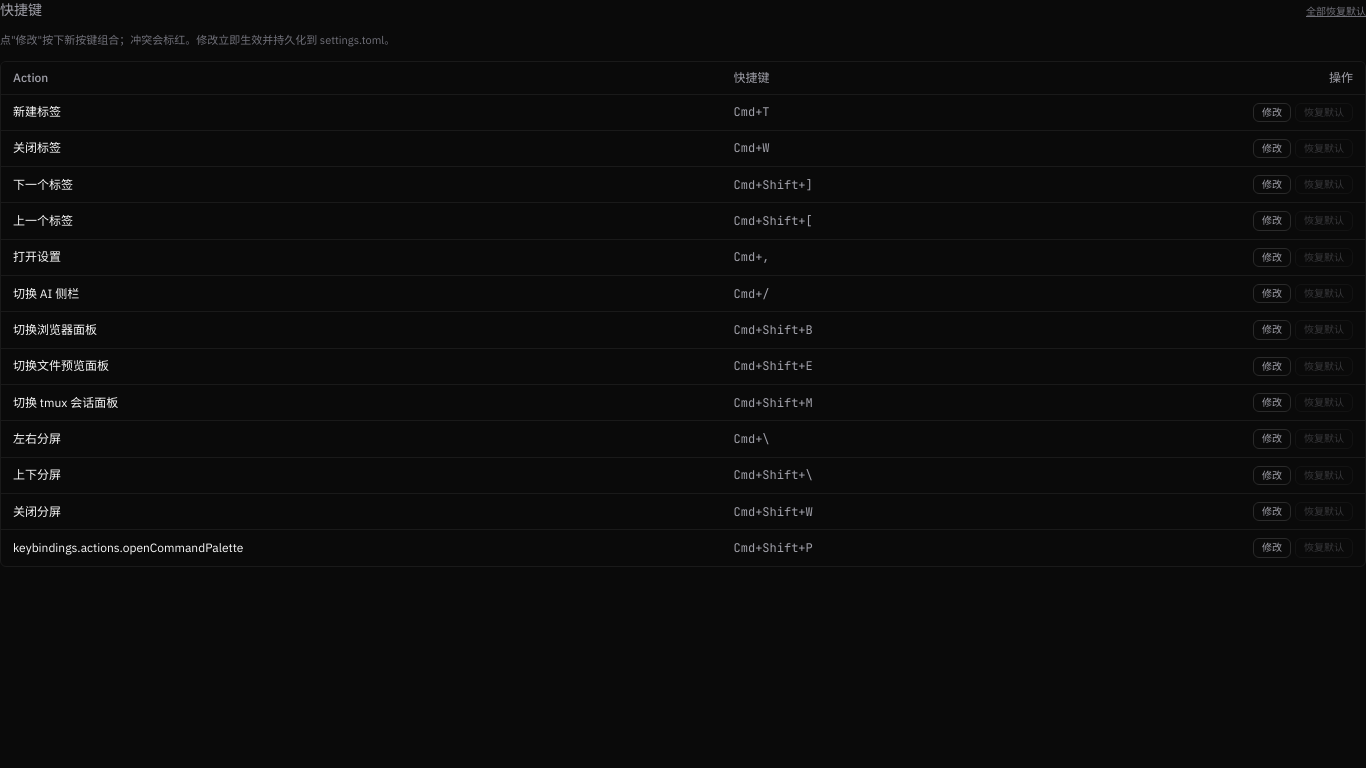
Test case: KeybindingsSection › capture dialog 仅 modifier 键按下不更新预览（要求至少一个非修饰键）
What coordinates should you click on to do the following:
click the button with test id "keybinding-edit-newTab"
I would click on:
 (1272, 112)
Its box is [1253, 102, 1291, 122].
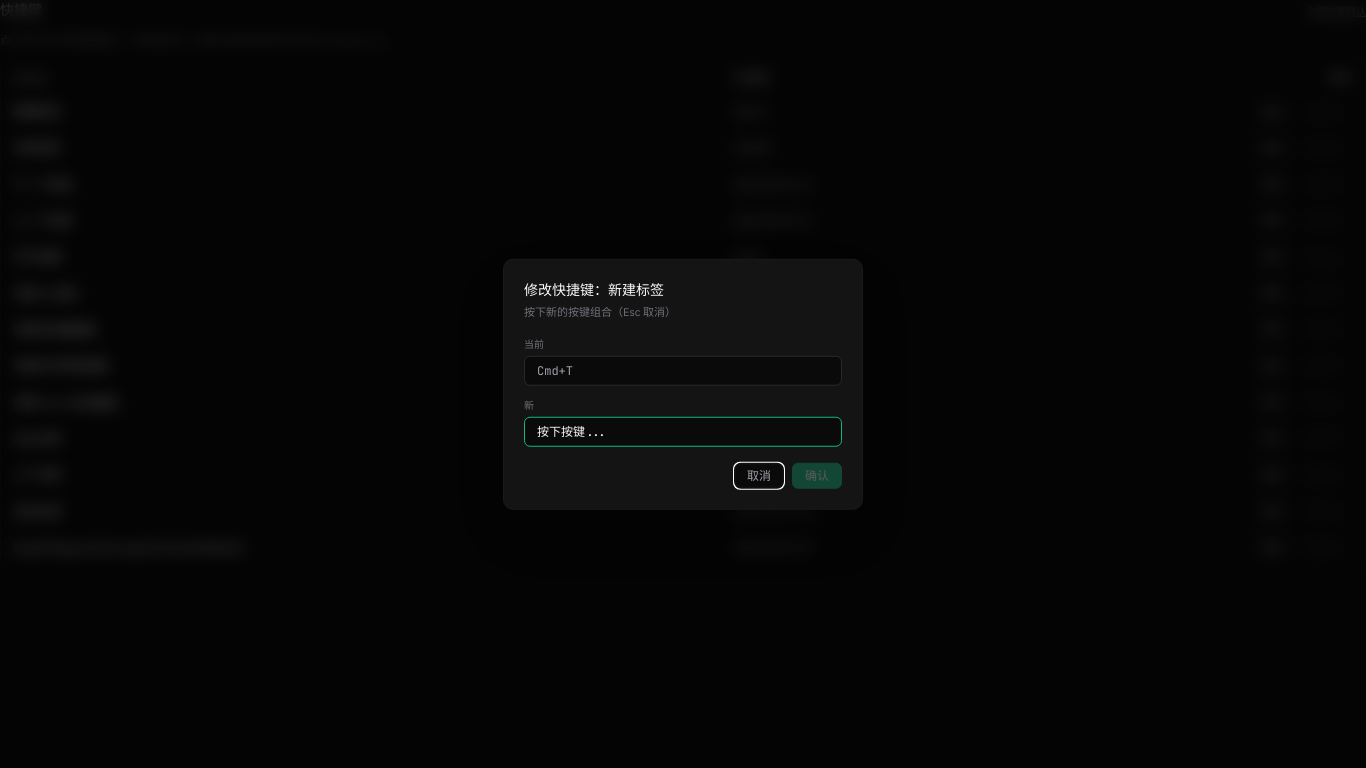
expect the dialog with test id "keybinding-capture-dialog" is shown: met, box [503, 259, 863, 509]
expect the text with test id "keybinding-capture-preview" reads "按下按键...": met, box [537, 423, 607, 439]
expect the button with test id "keybinding-capture-confirm" is disabled: met, box [792, 462, 842, 488]
